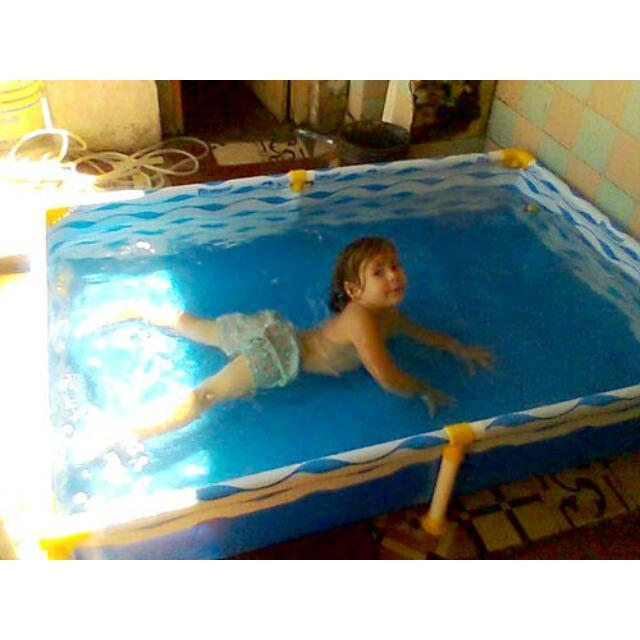human: (78, 234, 491, 460)
